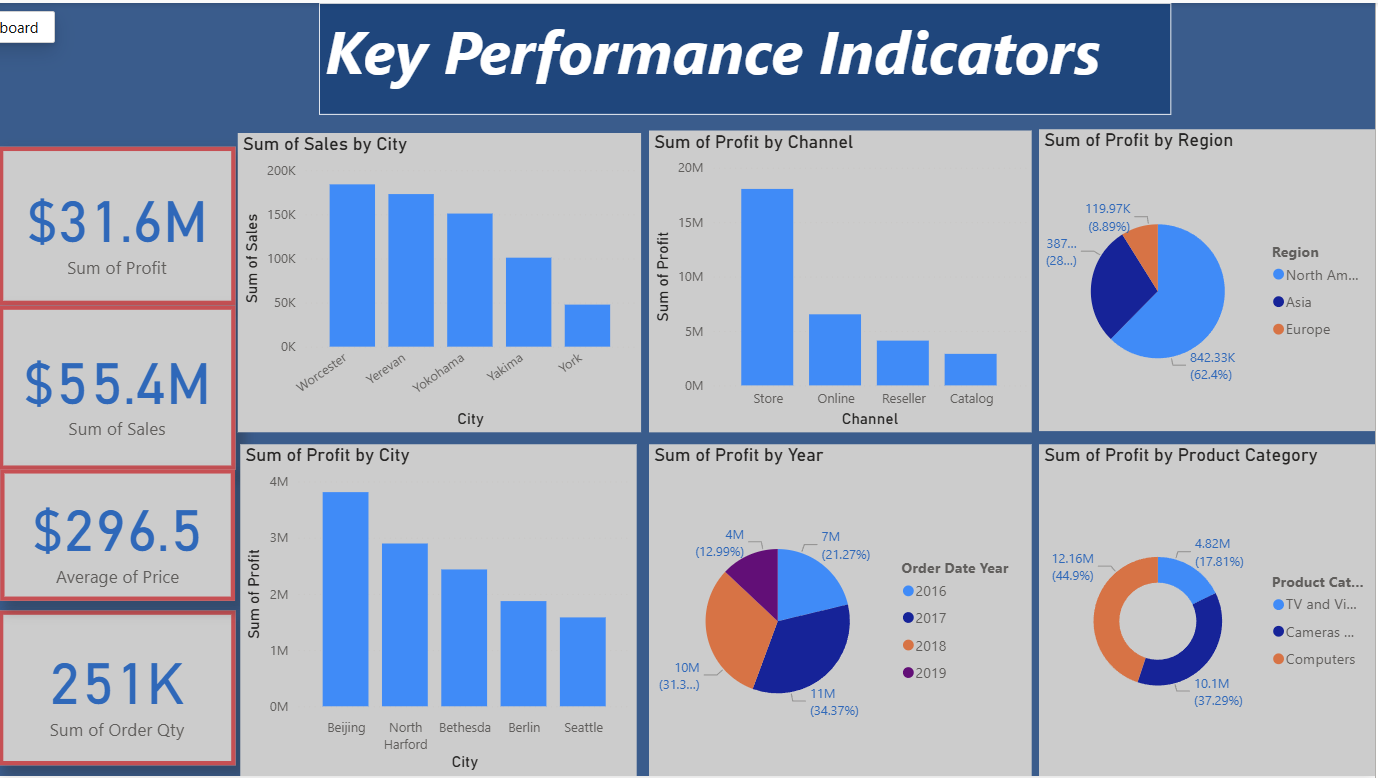

The dashboard page shown, as its layout file describes it:
{"tool":"powerbi","page":{"name":"Page 1","canvas":[1280,720],"ordinal":0},"visuals":[{"type":"card","fields":{"Values":["Sum(Data1.Profit)"]},"box":[0,133.8,220,147.5],"z":0},{"type":"textbox","box":[297.8,0,793.1,104.3],"z":1000},{"type":"card","fields":{"Values":["Sum(Data1.Sales)"]},"box":[0,281.2,220,152.5],"z":2000},{"type":"card","fields":{"Values":["Sum(Data1.Order Qty)"]},"box":[0,565,220,143.8],"z":3000},{"type":"card","fields":{"Values":["Avg(Data1.Price)"]},"box":[1.2,433.8,218.8,122.5],"z":4000},{"type":"clusteredColumnChart","fields":{"Y":["Sum(Data1.Sales)"],"Category":["Data1.City"]},"box":[222.5,121.2,375,278.8],"z":5000},{"type":"clusteredColumnChart","fields":{"Category":["Data1.Channel"],"Y":["Sum(Data1.Profit)"]},"box":[604.4,118.2,355.9,281.1],"z":6000},{"type":"donutChart","fields":{"Category":["Data1.Product Category"],"Y":["Sum(Data1.Profit)"]},"box":[967.6,410.2,312.5,308.8],"z":7000},{"type":"pieChart","fields":{"Category":["Data1.Region"],"Y":["Sum(Data1.Profit)"]},"box":[967.6,117,312.5,281.1],"z":8000},{"type":"pieChart","fields":{"Category":["Data1.Order Date.Variation.Date Hierarchy.Year"],"Y":["Sum(Data1.Profit)"]},"box":[604.4,410.2,355.9,308.8],"z":9000},{"type":"clusteredColumnChart","fields":{"Category":["Data1.City"],"Y":["Sum(Data1.Profit)"]},"box":[225,410,368.8,308.8],"z":10000}]}

Visuals, with their boxes in screenshot pixels (x1, y1, x2, y2), scaled from the page's 1280x720 canvas onto the 1378x778 screenshot:
card - Sum(Data1.Profit): rect(0, 145, 237, 304)
textbox: rect(321, 0, 1174, 113)
card - Sum(Data1.Sales): rect(0, 304, 237, 469)
card - Sum(Data1.Order Qty): rect(0, 611, 237, 766)
card - Avg(Data1.Price): rect(1, 469, 237, 601)
clusteredColumnChart - Sum(Data1.Sales) x Data1.City: rect(240, 131, 643, 432)
clusteredColumnChart - Data1.Channel x Sum(Data1.Profit): rect(651, 128, 1034, 431)
donutChart - Data1.Product Category x Sum(Data1.Profit): rect(1042, 443, 1377, 777)
pieChart - Data1.Region x Sum(Data1.Profit): rect(1042, 126, 1377, 430)
pieChart - Data1.Order Date.Variation.Date Hierarchy.Year x Sum(Data1.Profit): rect(651, 443, 1034, 777)
clusteredColumnChart - Data1.City x Sum(Data1.Profit): rect(242, 443, 639, 777)
